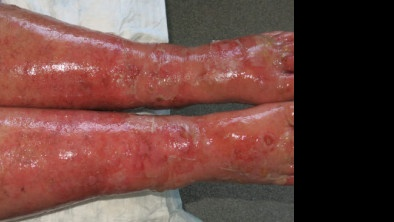SJS-TEN: (0, 0, 301, 124), (0, 100, 298, 222)
